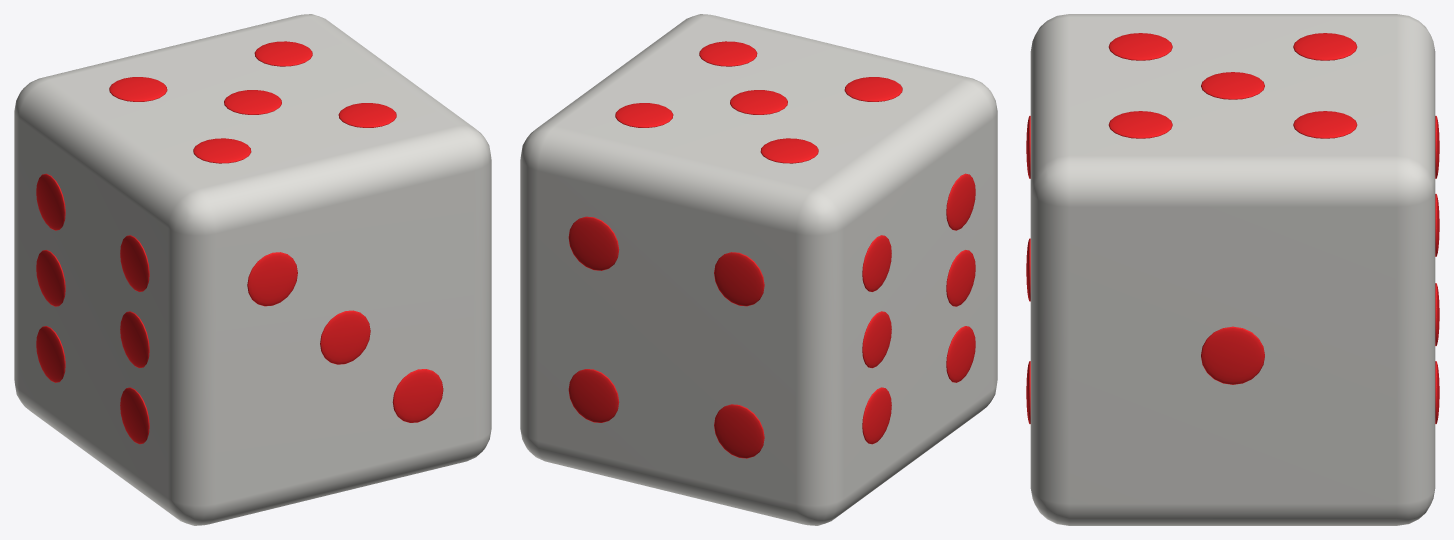
The model's file is Die.fbx.
3 renders of one model, left to right at view 1: azimuth 30°, elevation 25°; view 2: azimuth 150°, elevation 25°; view 3: azimuth 270°, elevation 25°, orthographic. The views are drawn at different scales.
Visible parts, largest first — view 1: Die_Body, Die_Pips_3_2, Die_Pips_3_1, Die_Pips_3_3, Die_Pips_6_1, Die_Pips_6_2, Die_Pips_6_5, Die_Pips_6_6, Die_Pips_6_3, Die_Pips_6_4, Die_Pips_5_5, Die_Pips_5_1 (+3 smaller); view 2: Die_Body, Die_Pips_4_3, Die_Pips_4_1, Die_Pips_4_4, Die_Pips_4_2, Die_Pips_6_4, Die_Pips_6_2, Die_Pips_6_3, Die_Pips_6_5, Die_Pips_6_6, Die_Pips_6_1, Die_Pips_5_2 (+4 smaller); view 3: Die_Body, Die_Pips_1_1, Die_Pips_5_3, Die_Pips_5_1, Die_Pips_5_2, Die_Pips_5_4, Die_Pips_5_5.
Part boxes in pixels (left/top/right/bottom): Die_Body: left=14, top=14, right=491, bottom=525; Die_Pips_3_2: left=320, top=310, right=370, bottom=364; Die_Pips_3_1: left=247, top=252, right=297, bottom=306; Die_Pips_3_3: left=392, top=369, right=443, bottom=422; Die_Pips_6_1: left=36, top=326, right=65, bottom=382; Die_Pips_6_2: left=36, top=250, right=65, bottom=306; Die_Pips_6_5: left=120, top=311, right=149, bottom=368; Die_Pips_6_6: left=120, top=235, right=149, bottom=291; Die_Pips_6_3: left=36, top=173, right=65, bottom=230; Die_Pips_6_4: left=120, top=387, right=149, bottom=444; Die_Pips_5_5: left=254, top=41, right=312, bottom=66; Die_Pips_5_1: left=193, top=138, right=251, bottom=163; Die_Body: left=520, top=14, right=997, bottom=525; Die_Pips_4_3: left=714, top=404, right=764, bottom=458; Die_Pips_4_1: left=568, top=369, right=619, bottom=422; Die_Pips_4_4: left=714, top=252, right=764, bottom=306; Die_Pips_4_2: left=568, top=216, right=619, bottom=270; Die_Pips_6_4: left=946, top=326, right=975, bottom=382; Die_Pips_6_2: left=862, top=311, right=891, bottom=368; Die_Pips_6_3: left=862, top=235, right=891, bottom=291; Die_Pips_6_5: left=946, top=250, right=975, bottom=306; Die_Pips_6_6: left=946, top=173, right=975, bottom=230; Die_Pips_6_1: left=862, top=387, right=891, bottom=444; Die_Pips_5_2: left=760, top=138, right=818, bottom=163; Die_Body: left=1030, top=14, right=1435, bottom=525; Die_Pips_1_1: left=1201, top=326, right=1264, bottom=384; Die_Pips_5_3: left=1201, top=72, right=1264, bottom=99; Die_Pips_5_1: left=1108, top=33, right=1172, bottom=60; Die_Pips_5_2: left=1293, top=33, right=1357, bottom=60; Die_Pips_5_4: left=1108, top=111, right=1172, bottom=138; Die_Pips_5_5: left=1293, top=111, right=1357, bottom=138.
Bounding box in the file's own units: 0.694 × 0.694 × 0.694.
